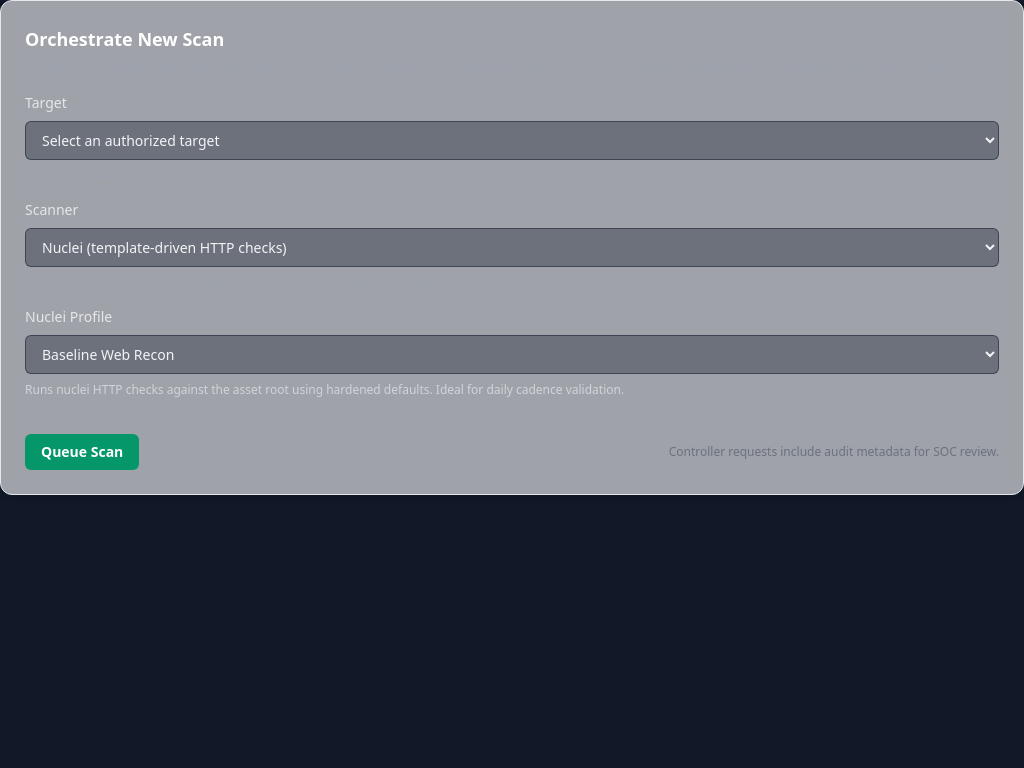
Scenario: ScanLaunchForm › queues a scan and surfaces the success message
Select "App Cluster — https://app.medusa.local" in the dropdown labelled "Target" at (512, 140), box [25,121,999,160]
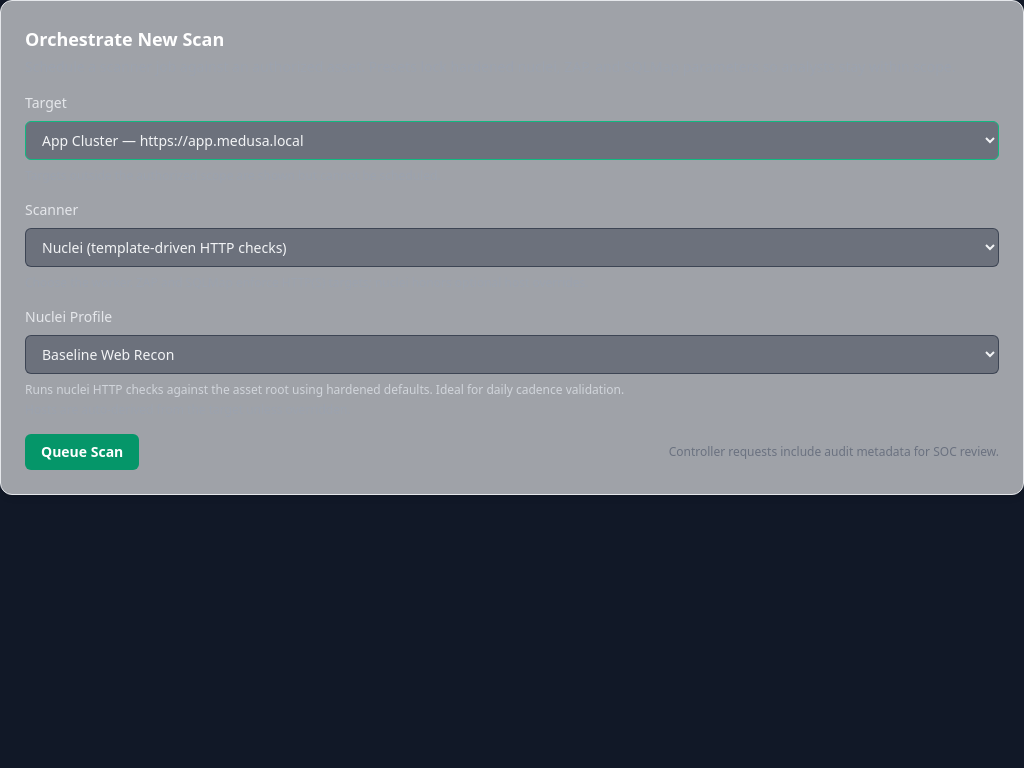
Click the button "Queue Scan" at (82, 452), box [25,434,139,470]
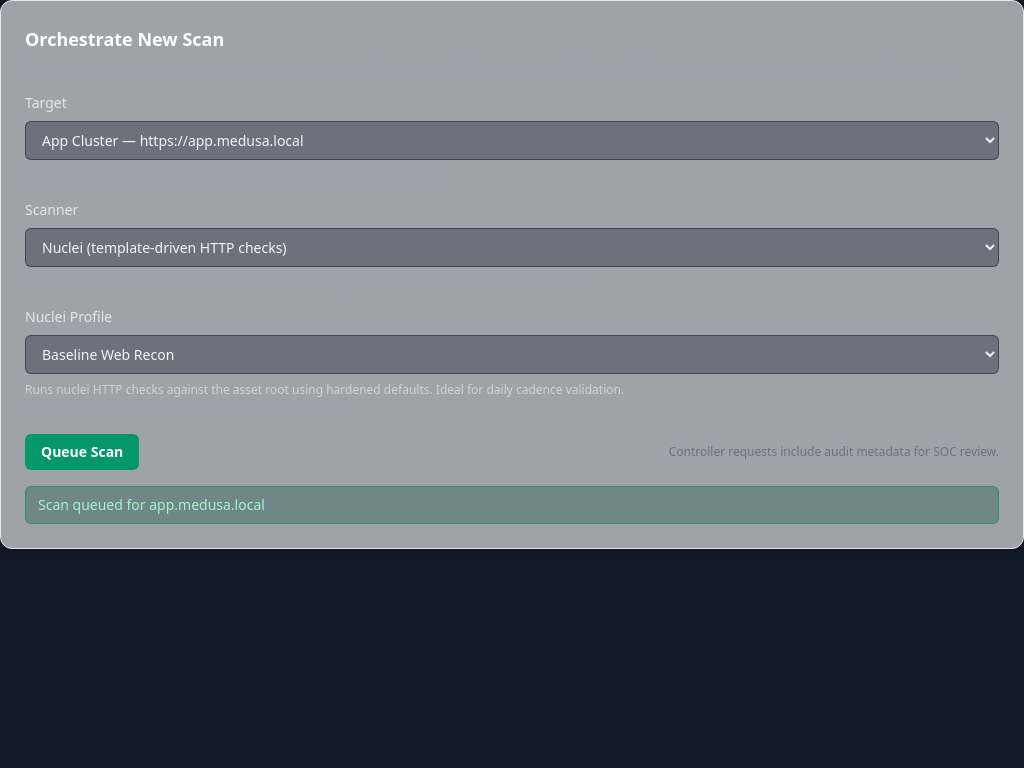
Now the text "Scan queued for app.medusa.local" is shown, box [25,486,999,524]
